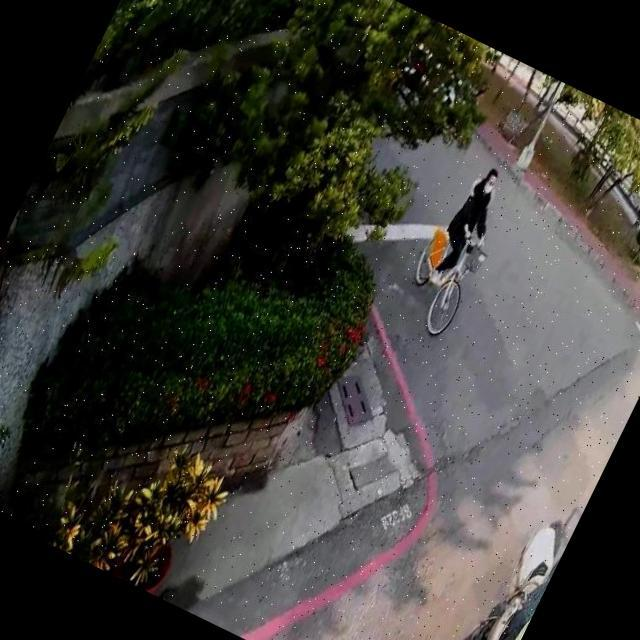person: (421, 155, 519, 296)
